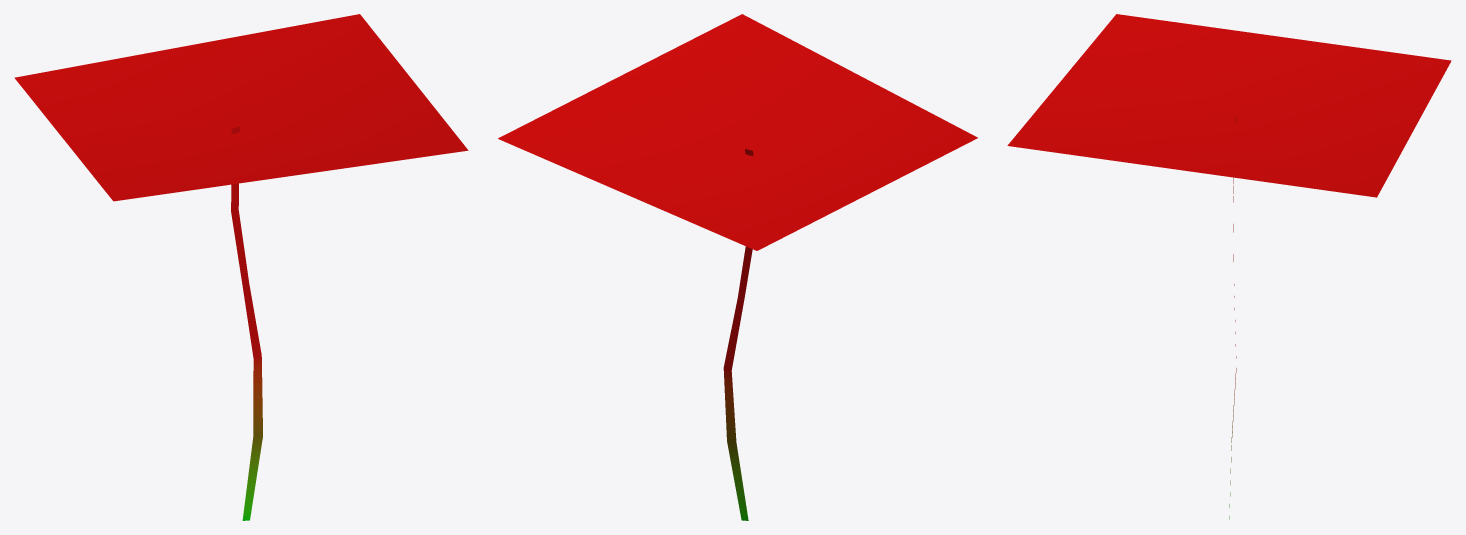
Rendered from Wood Sorrel_LOD2_Var17_wcwmchzja.fbx.
3 views of the same model, side by side, from view 1: azimuth 30°, elevation 25°; view 2: azimuth 150°, elevation 25°; view 3: azimuth 270°, elevation 25° (orthographic). The views are drawn at different scales.
Parts seen in each view (by area): view 1: _izd6_Var17_LOD2; view 2: _izd6_Var17_LOD2; view 3: _izd6_Var17_LOD2.
Boxes of the visible parts, left/top/right/bottom form: _izd6_Var17_LOD2: left=14, top=14, right=468, bottom=520; _izd6_Var17_LOD2: left=498, top=14, right=977, bottom=520; _izd6_Var17_LOD2: left=1007, top=14, right=1451, bottom=519.
Bounding box in the file's own units: 7.63 × 8.23 × 7.73.
